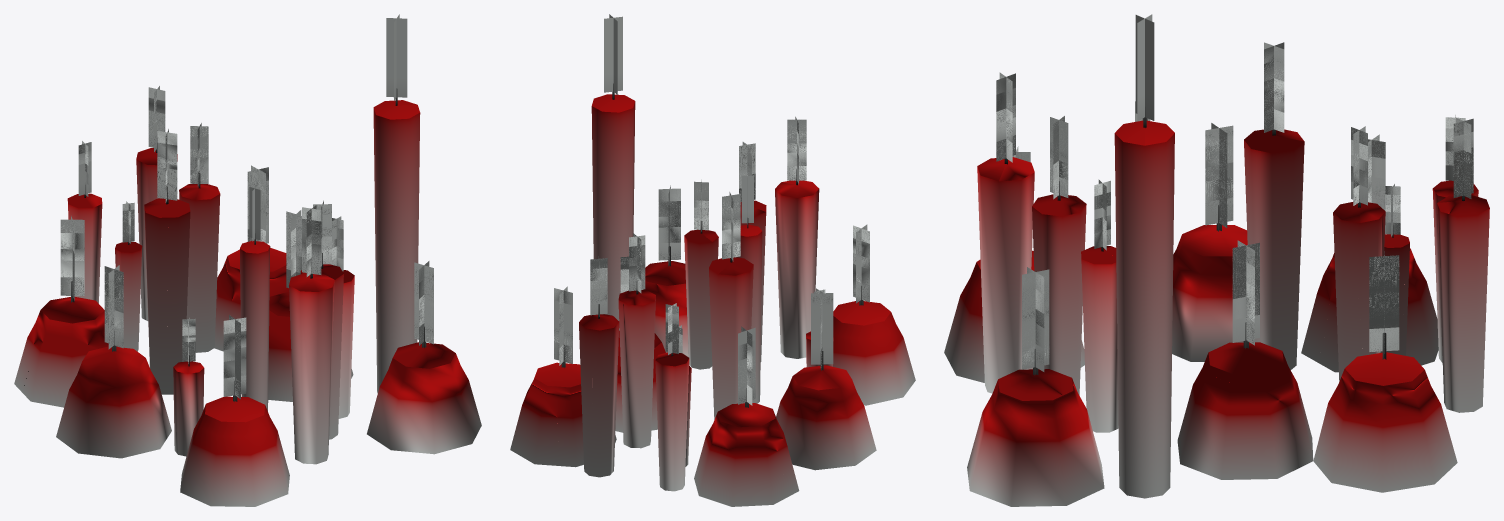
The picture shows the model from 3 angles, left to right: view 1: azimuth 30°, elevation 25°; view 2: azimuth 150°, elevation 25°; view 3: azimuth 270°, elevation 25°; orthographic projection. The views are drawn at different scales.
Parts seen in each view (by area): view 1: G:\FFXIV-MapTools\exports\r2f1\bg\ex1\01_roc_r2\fld\r2f1\bgp (×2); view 2: G:\FFXIV-MapTools\exports\r2f1\bg\ex1\01_roc_r2\fld\r2f1\bgp (×2); view 3: G:\FFXIV-MapTools\exports\r2f1\bg\ex1\01_roc_r2\fld\r2f1\bgp (×2).
Part boxes in pixels (x1=…): G:\FFXIV-MapTools\exports\r2f1\bg\ex1\01_roc_r2\fld\r2f1\bgp (×2): x1=14, y1=14, x2=481, y2=506; G:\FFXIV-MapTools\exports\r2f1\bg\ex1\01_roc_r2\fld\r2f1\bgp (×2): x1=510, y1=14, x2=915, y2=506; G:\FFXIV-MapTools\exports\r2f1\bg\ex1\01_roc_r2\fld\r2f1\bgp (×2): x1=944, y1=14, x2=1489, y2=506.
Size of the model in its own units: 0.7783 by 0.843 by 0.8887.
